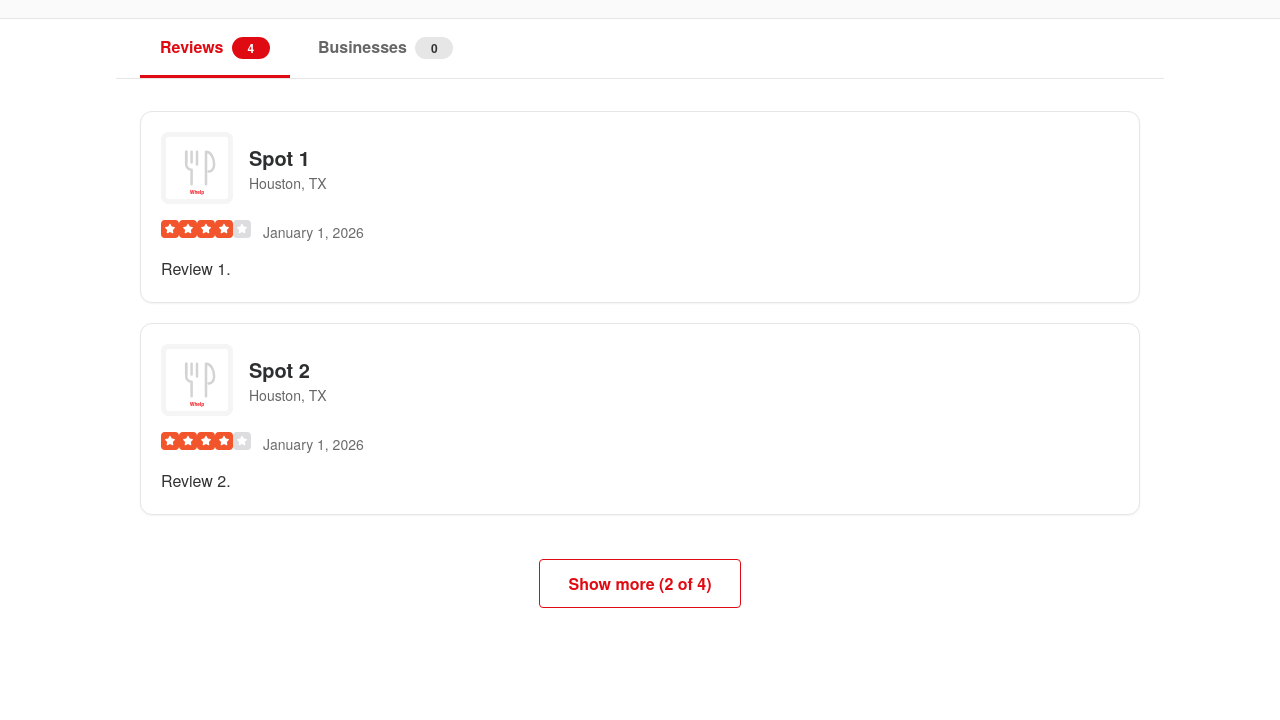
Test: a Show more that can't load says so, and can be tried again
(page scrolled)
Click the button "Show more (2 of 4)" at (640, 584), box [540, 559, 741, 608]
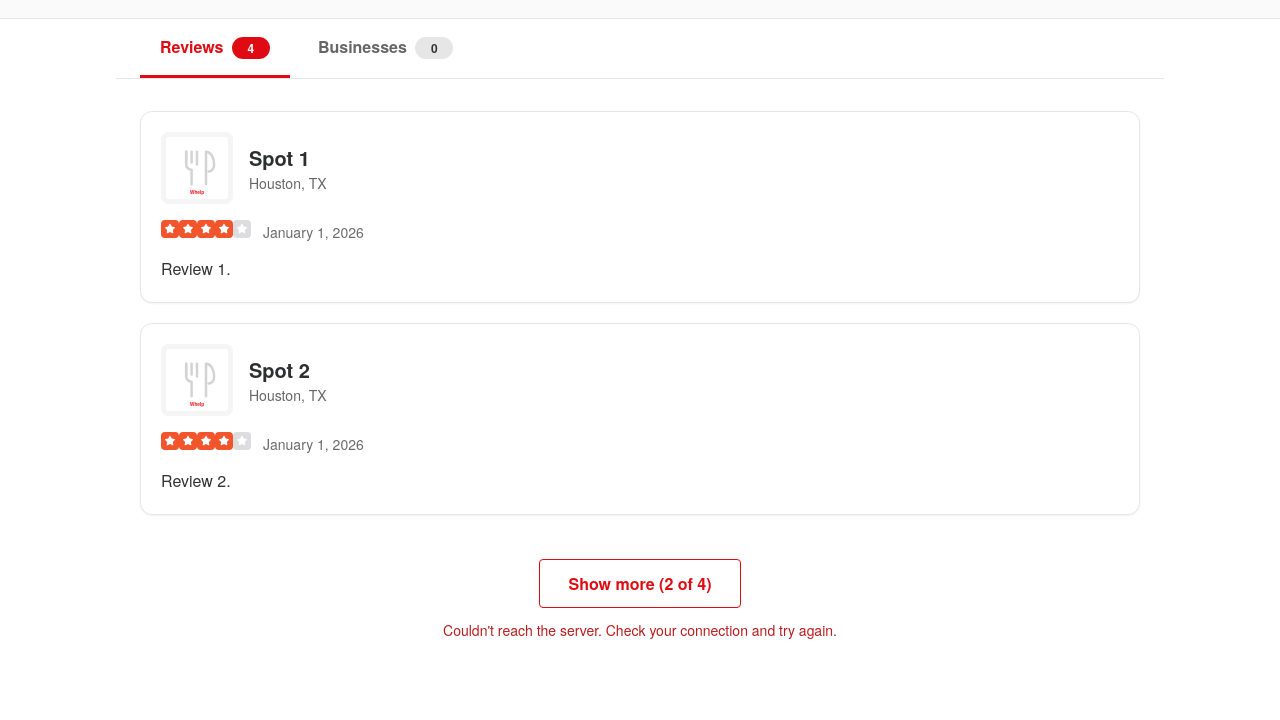
Now the message shows "Couldn't reach the server", box [443, 620, 837, 640]
